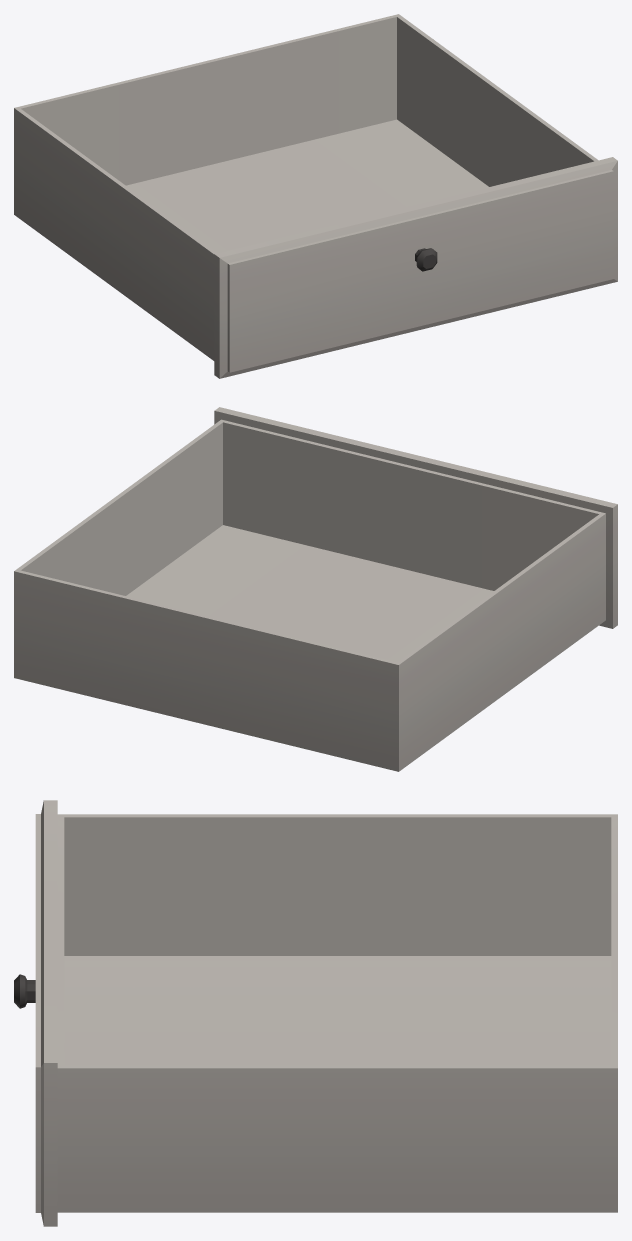
The model's file is Drawer_Unit_80cm_Medium.fbx.
The picture shows the model from 3 angles, top to bottom: view 1: azimuth 30°, elevation 25°; view 2: azimuth 150°, elevation 25°; view 3: azimuth 270°, elevation 25°; orthographic projection. The views are drawn at different scales.
Parts seen in each view (by area): view 1: Drawer_Unit_80cm_Medium; view 2: Drawer_Unit_80cm_Medium; view 3: Drawer_Unit_80cm_Medium.
Part boxes in pixels (box(x1,y1,x2,y2)): Drawer_Unit_80cm_Medium: box(14, 14, 617, 378); Drawer_Unit_80cm_Medium: box(14, 407, 617, 771); Drawer_Unit_80cm_Medium: box(14, 800, 617, 1226).
Bounding box in the file's own units: 78.38 × 22.75 × 76.11.
